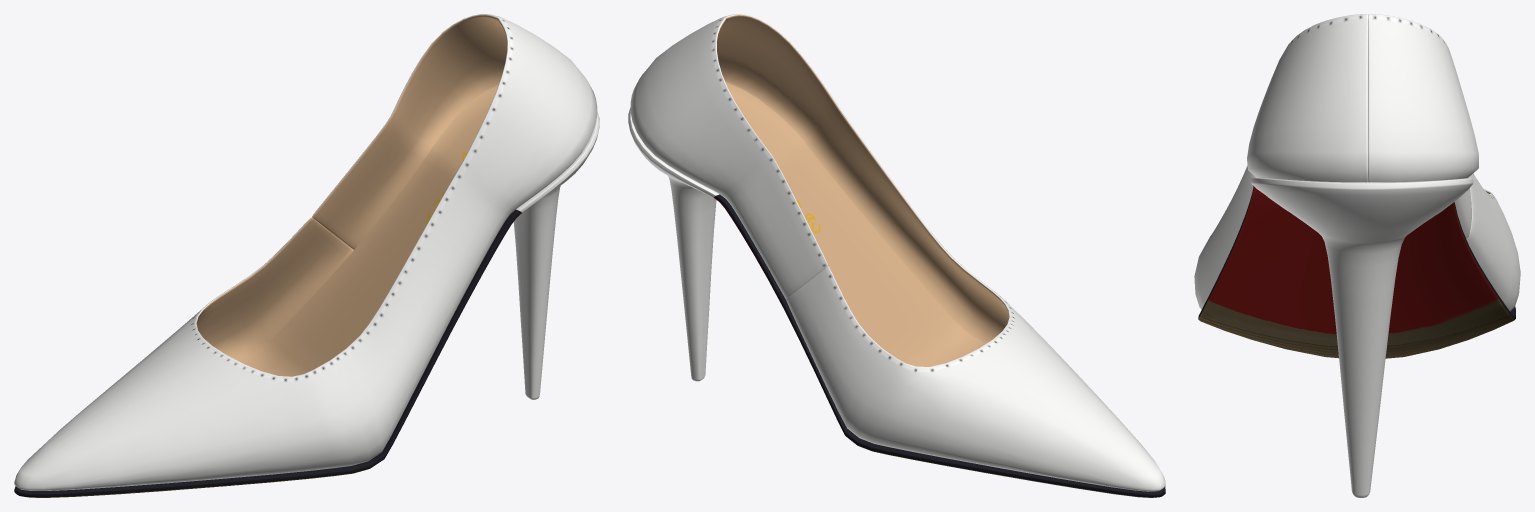
The model's file is shoe.obj.
3 renders of one model, left to right at view 1: azimuth 30°, elevation 25°; view 2: azimuth 150°, elevation 25°; view 3: azimuth 270°, elevation 25°, orthographic. The views are drawn at different scales.
Visible parts, largest first — view 1: polySurface15_polySurface22, polySurface23_polySurface15; view 2: polySurface15_polySurface22, polySurface23_polySurface15; view 3: polySurface15_polySurface22.
Part boxes in pixels (<box>): polySurface15_polySurface22: <box>14,14,599,497</box>; polySurface23_polySurface15: <box>238,85,498,376</box>; polySurface15_polySurface22: <box>628,14,1165,497</box>; polySurface23_polySurface15: <box>726,82,985,366</box>; polySurface15_polySurface22: <box>1194,14,1520,497</box>.
Bounding box in the file's own units: 2.88 × 1.91 × 1.22.
